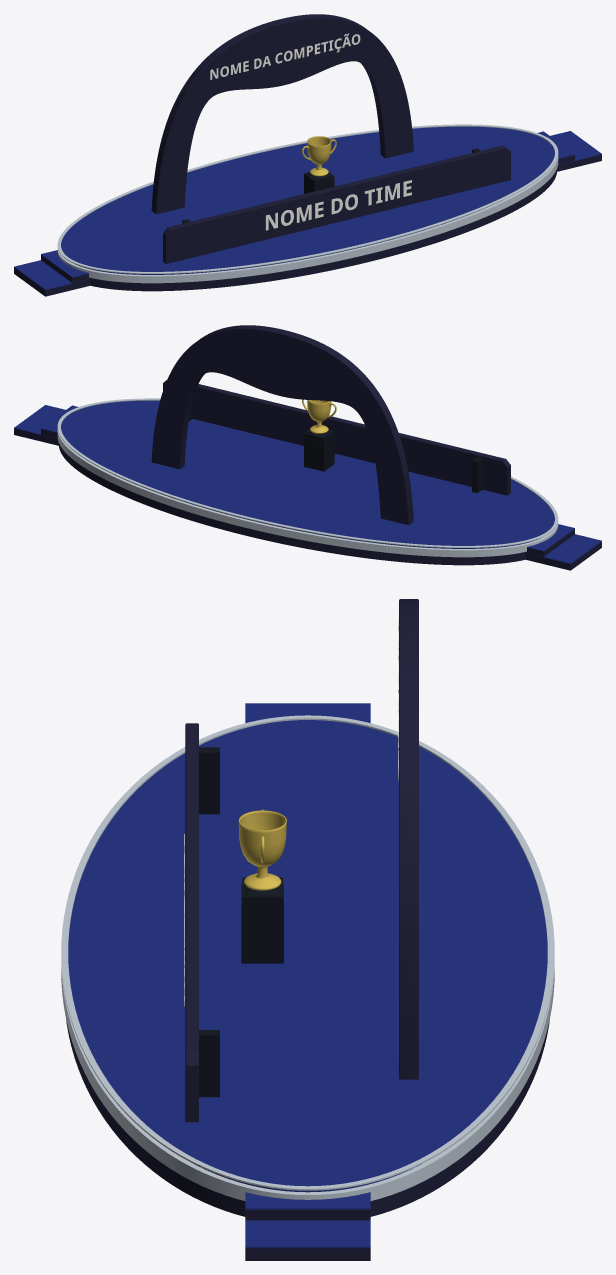
File: psobr-awards-stage.glb
3 renders of one model, top to bottom at view 1: azimuth 30°, elevation 25°; view 2: azimuth 150°, elevation 25°; view 3: azimuth 270°, elevation 25°, orthographic. The views are drawn at different scales.
Visible parts, largest first — view 1: Oval_Blue_Deck, Arch_Solid, Banner_Panel, Oval_Silver_Fascia, Oval_Foundation, Deck_Perimeter_Trim, Lower_Tread (×2), Team_Lettering, Competition_Lettering, Golden_Cup, Lower_Step, Upper_Tread (+1 smaller); view 2: Oval_Blue_Deck, Arch_Solid, Banner_Panel, Oval_Silver_Fascia, Oval_Foundation, Deck_Perimeter_Trim, Lower_Tread (×2), Display_Plinth, Golden_Cup, Lower_Step, Upper_Tread, Banner_Rear_Support; view 3: Oval_Blue_Deck, Deck_Perimeter_Trim, Arch_Solid, Oval_Silver_Fascia, Banner_Panel, Lower_Tread (×2), Oval_Foundation, Golden_Cup, Banner_Rear_Support (×2), Display_Plinth, Upper_Tread, Lower_Step (+1 smaller).
Boxes of the visible parts, <box> form: Oval_Blue_Deck: <box>61,126,554,274</box>; Arch_Solid: <box>151,14,413,214</box>; Banner_Panel: <box>163,145,510,263</box>; Oval_Silver_Fascia: <box>57,156,558,283</box>; Oval_Foundation: <box>90,169,556,291</box>; Deck_Perimeter_Trim: <box>57,124,558,273</box>; Lower_Tread (×2): <box>14,131,601,290</box>; Team_Lettering: <box>265,180,411,230</box>; Competition_Lettering: <box>210,33,360,79</box>; Golden_Cup: <box>307,136,331,176</box>; Lower_Step: <box>14,268,90,296</box>; Upper_Tread: <box>41,250,88,277</box>; Oval_Blue_Deck: <box>61,400,554,548</box>; Arch_Solid: <box>151,325,413,525</box>; Banner_Panel: <box>163,380,510,495</box>; Oval_Silver_Fascia: <box>57,430,558,557</box>; Oval_Foundation: <box>59,443,525,565</box>; Deck_Perimeter_Trim: <box>57,398,558,547</box>; Lower_Tread (×2): <box>14,405,601,564</box>; Display_Plinth: <box>304,434,334,471</box>; Golden_Cup: <box>307,400,331,433</box>; Lower_Step: <box>525,542,601,570</box>; Upper_Tread: <box>527,524,574,551</box>; Banner_Rear_Support: <box>472,457,482,493</box>; Oval_Blue_Deck: <box>68,720,547,1192</box>; Deck_Perimeter_Trim: <box>61,715,554,1190</box>; Arch_Solid: <box>399,599,418,1079</box>; Oval_Silver_Fascia: <box>61,965,554,1200</box>; Banner_Panel: <box>185,723,198,1122</box>; Lower_Tread (×2): <box>245,703,370,1248</box>; Oval_Foundation: <box>66,1019,549,1216</box>; Golden_Cup: <box>238,810,286,890</box>; Banner_Rear_Support (×2): <box>199,747,219,1097</box>; Display_Plinth: <box>241,884,283,963</box>; Upper_Tread: <box>245,1192,370,1209</box>; Lower_Step: <box>245,1248,370,1260</box>.
Bounding box in the file's own units: 18.44 × 5.64 × 7.08.
